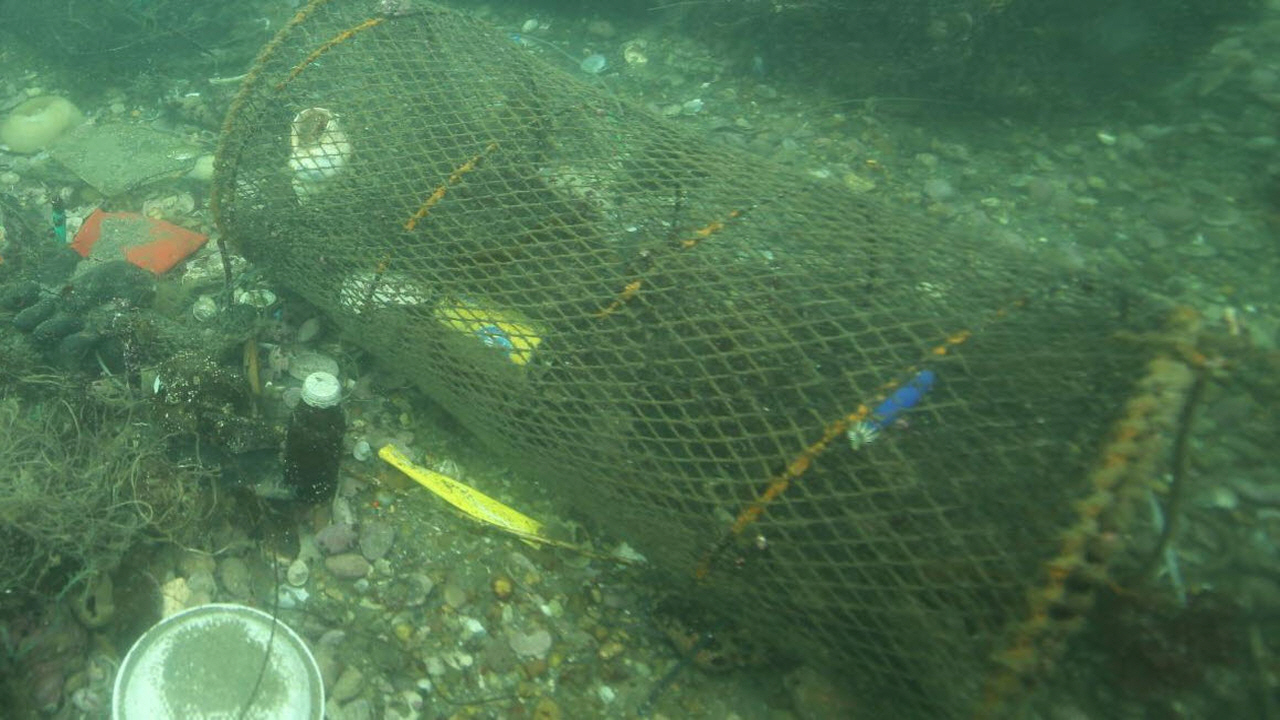spring fish trap: (211, 0, 1212, 720)
